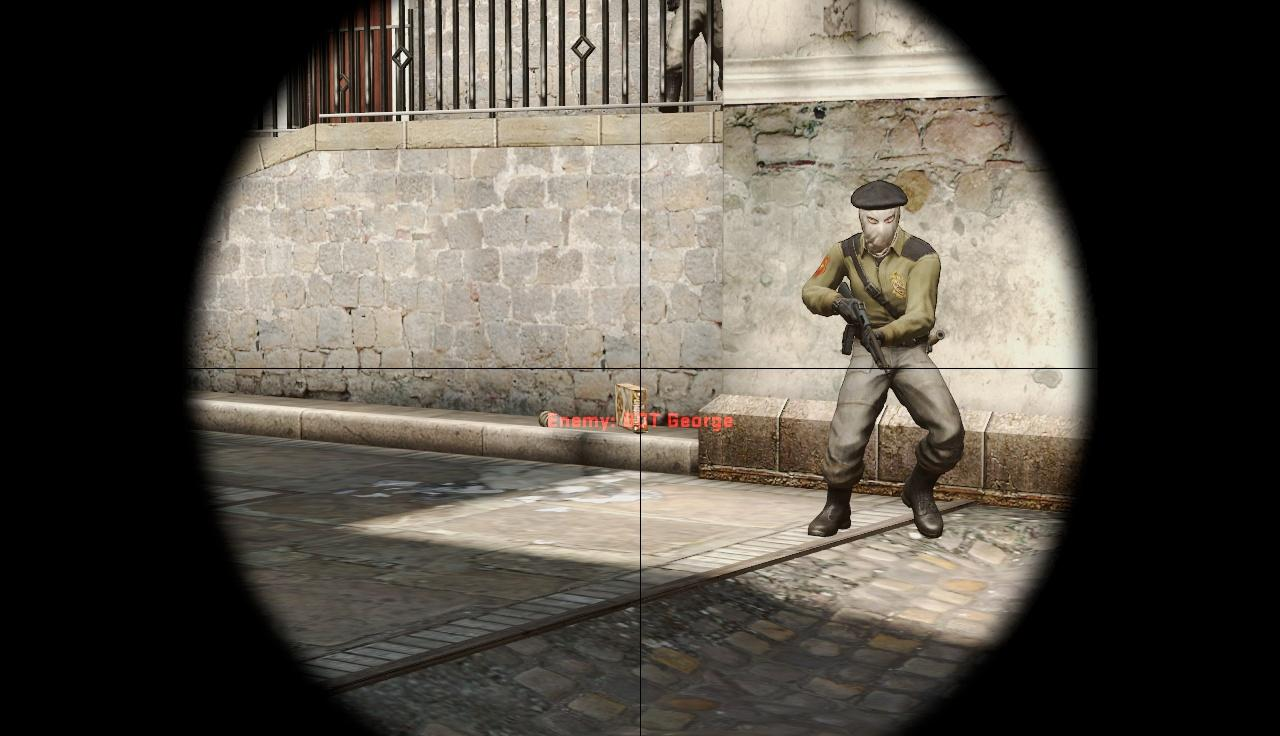tt: (800, 183, 957, 543)
tthead: (858, 186, 906, 247)
